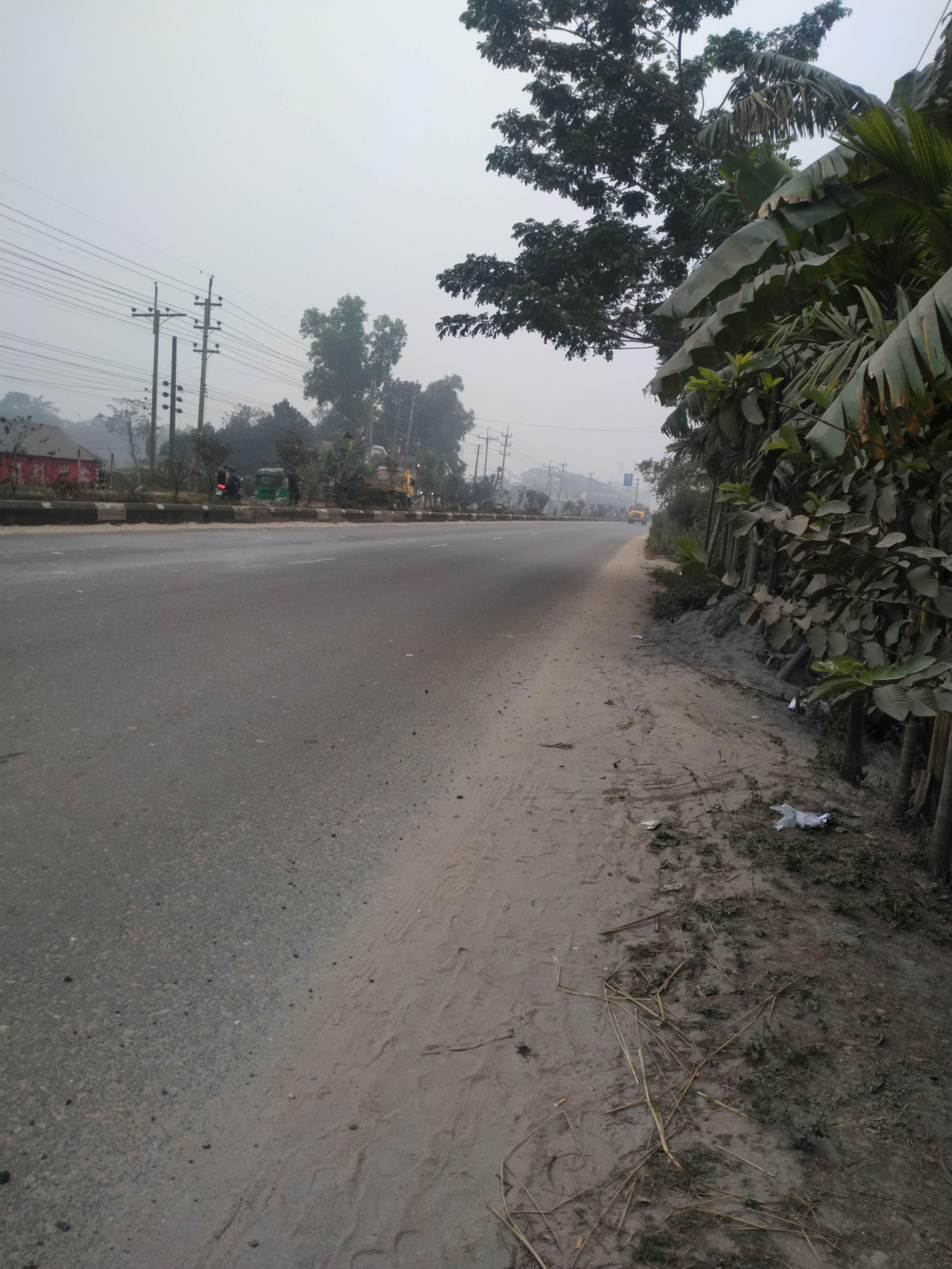Bike: (198, 457, 250, 506)
Truck: (617, 497, 653, 534)
